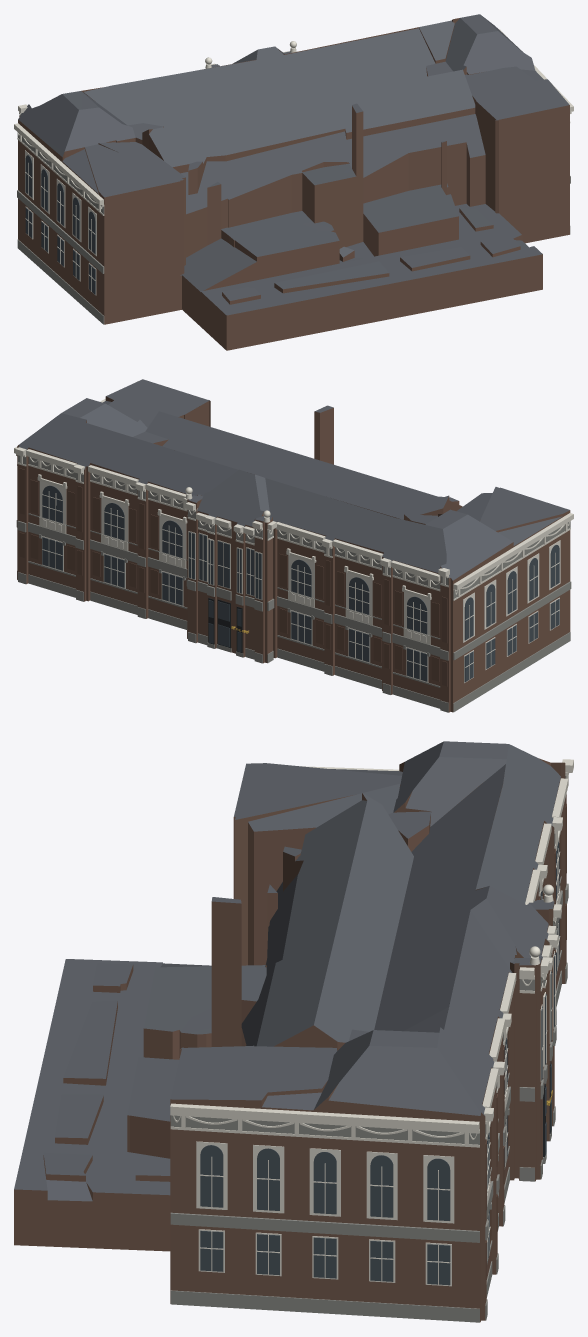
Rendered from de-ateliers.glb.
The picture shows the model from 3 angles, top to bottom: view 1: azimuth 30°, elevation 25°; view 2: azimuth 150°, elevation 25°; view 3: azimuth 270°, elevation 25°; orthographic projection. The views are drawn at different scales.
Visible parts, largest first — view 1: de-ateliers; view 2: de-ateliers; view 3: de-ateliers.
Boxes of the visible parts, bbox=[...] form: de-ateliers: bbox=[14, 14, 573, 350]; de-ateliers: bbox=[14, 379, 573, 712]; de-ateliers: bbox=[14, 741, 573, 1322].
Bounding box in the file's own units: 63.3 × 20.77 × 41.15.
